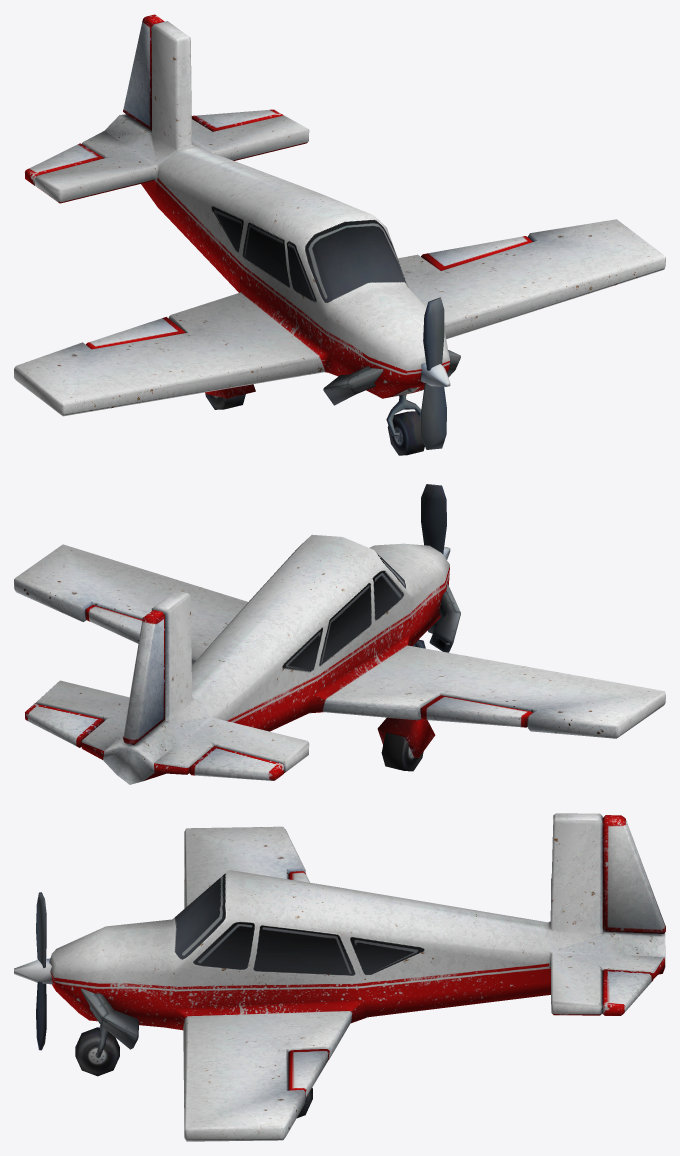
Rendered from ToonAirplane_04.fbx.
3 views of the same model, one above another, from view 1: azimuth 30°, elevation 25°; view 2: azimuth 150°, elevation 25°; view 3: azimuth 270°, elevation 25° (orthographic).
Visible parts, largest first — view 1: ToonAirplane_04, Propeller, Ctrl_Elevators, Ctrl_Rudder, Ctrl_Aileron_L, Ctrl_Aileron_R; view 2: ToonAirplane_04, Ctrl_Elevators, Ctrl_Rudder, Ctrl_Aileron_R, Propeller, Ctrl_Aileron_L; view 3: ToonAirplane_04, Ctrl_Rudder, Ctrl_Elevators, Ctrl_Aileron_L, Propeller.
Part boxes in pixels (<box>): ToonAirplane_04: <box>14,21,665,455</box>; Propeller: <box>421,297,446,449</box>; Ctrl_Elevators: <box>25,109,283,185</box>; Ctrl_Rudder: <box>123,14,164,130</box>; Ctrl_Aileron_L: <box>421,236,532,270</box>; Ctrl_Aileron_R: <box>86,317,185,349</box>; ToonAirplane_04: <box>14,534,665,784</box>; Ctrl_Elevators: <box>25,703,283,780</box>; Ctrl_Rudder: <box>123,610,164,744</box>; Ctrl_Aileron_R: <box>420,695,532,727</box>; Propeller: <box>421,484,446,633</box>; Ctrl_Aileron_L: <box>85,605,142,643</box>; ToonAirplane_04: <box>14,813,665,1141</box>; Ctrl_Rudder: <box>602,815,665,933</box>; Ctrl_Elevators: <box>602,969,653,1015</box>; Ctrl_Aileron_L: <box>288,1049,329,1097</box>; Propeller: <box>36,892,46,1050</box>.
Bounding box in the file's own units: 33.73 × 13.39 × 30.89.
